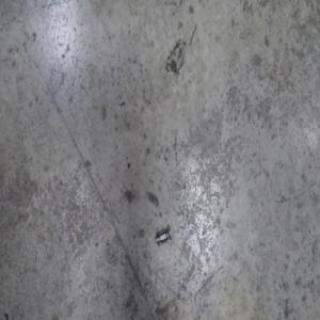Bolttrack_idkeyframe: (154, 225, 172, 247)
